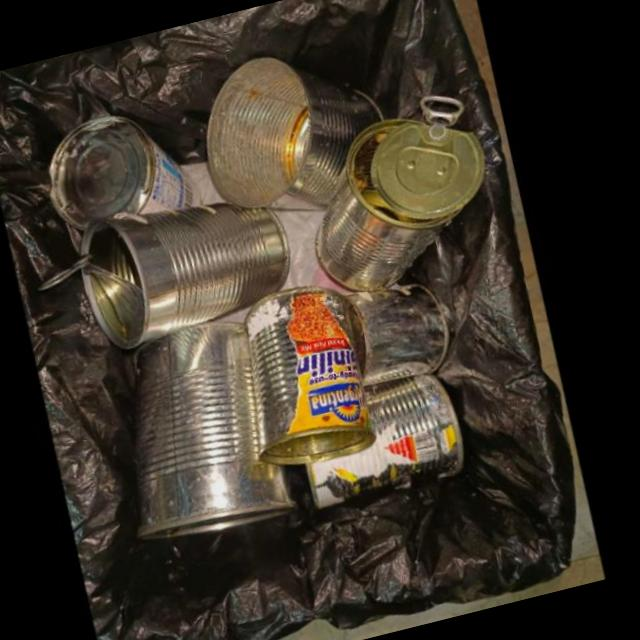nhom: (45, 205, 298, 353), (143, 323, 309, 543), (322, 95, 490, 293), (211, 60, 389, 214), (253, 287, 387, 466), (316, 372, 475, 511), (54, 121, 208, 235), (350, 284, 457, 386)
